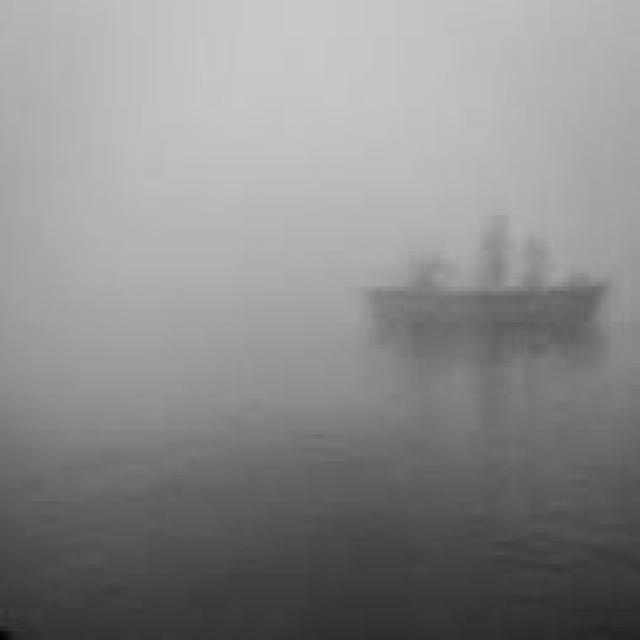houseboat: (367, 180, 594, 352)
